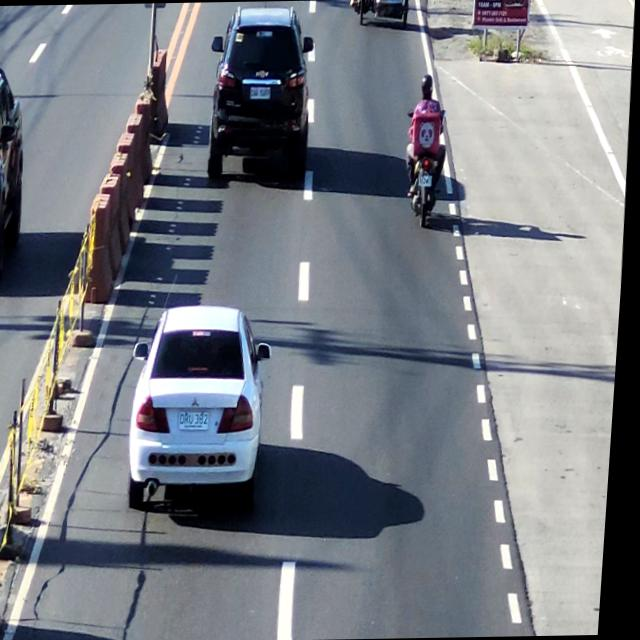Car: (124, 304, 279, 516), (206, 7, 318, 180)
License-Plate: (181, 408, 220, 434), (250, 86, 273, 100), (419, 173, 437, 190)
Motorcycle: (403, 72, 454, 234)
